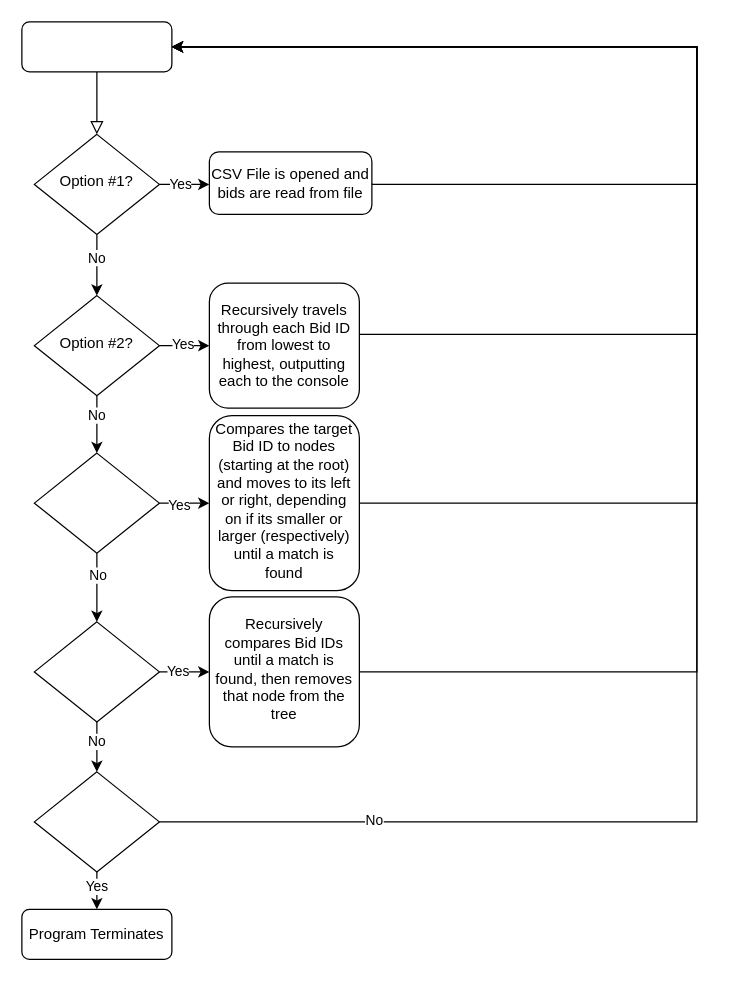
Image size: 729x981. Some labels were removed from this diagram. Each missing label, with the centre of its shape:
Menu Displayed to User: point (96, 46)
Option #3?: point (96, 502)
Option #4?: point (96, 671)
Option #9?: point (96, 821)
